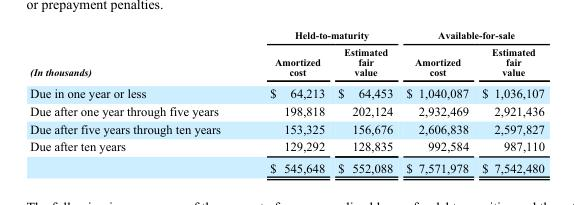table: (29, 29, 543, 174)
table column: (29, 29, 244, 174), (244, 29, 330, 174), (399, 29, 474, 174), (330, 29, 399, 174), (474, 29, 543, 174)
table column header: (29, 29, 543, 81)
table row: (29, 43, 543, 81), (29, 81, 543, 101), (29, 137, 543, 156), (29, 101, 543, 119), (29, 119, 543, 137), (29, 156, 543, 174), (29, 29, 543, 43)
table spanning cell: (29, 29, 244, 81), (244, 29, 399, 43), (399, 29, 543, 43)
